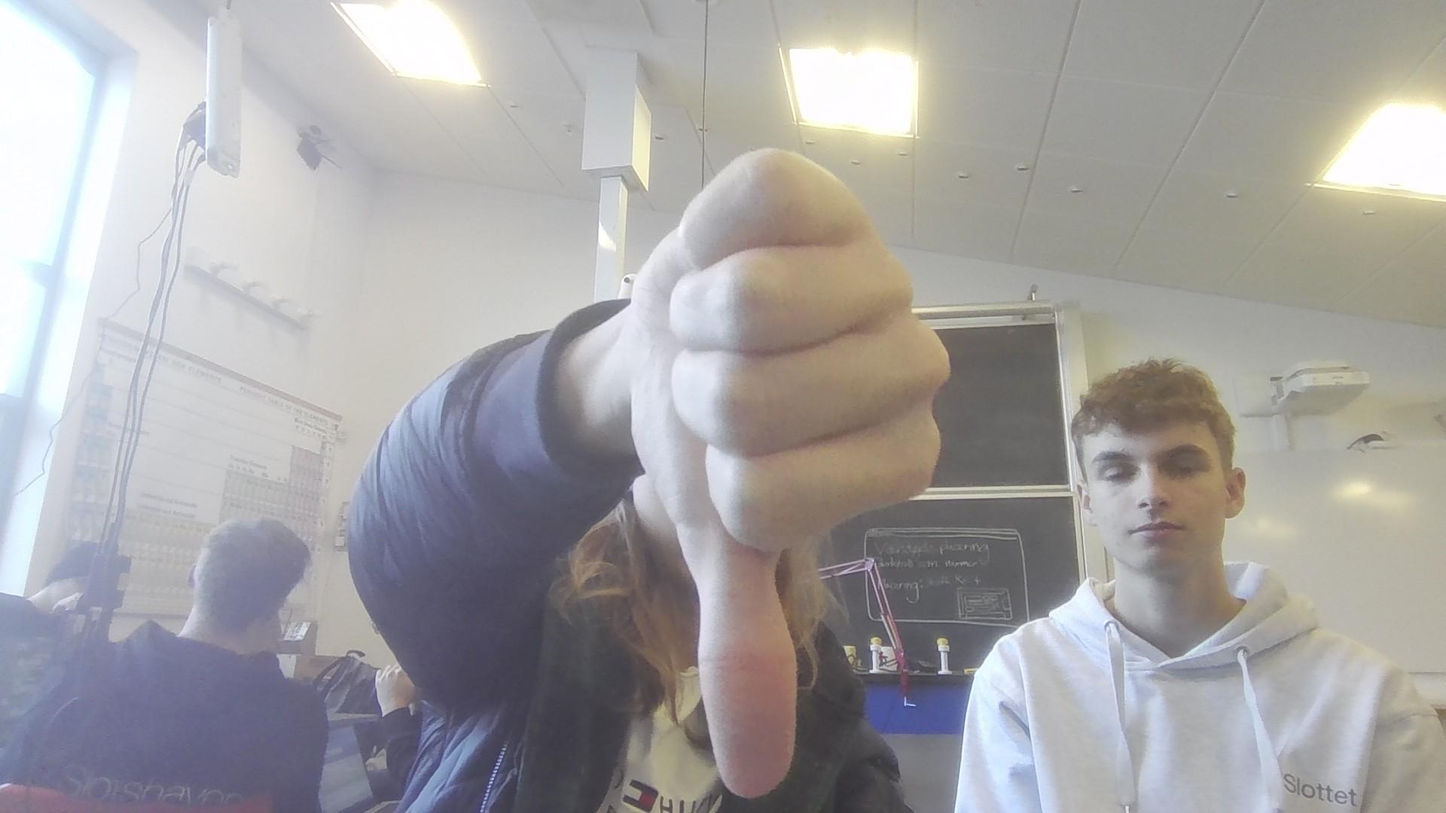thumbs down: (600, 146, 955, 792)
